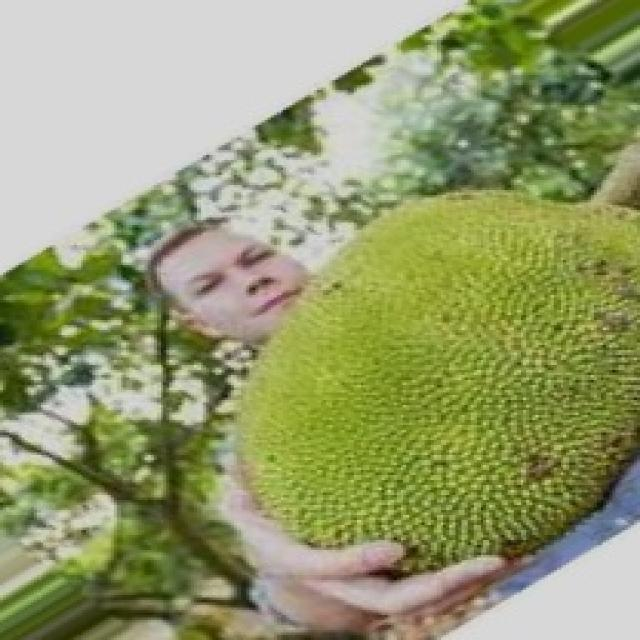Fruit: (206, 162, 640, 620)
